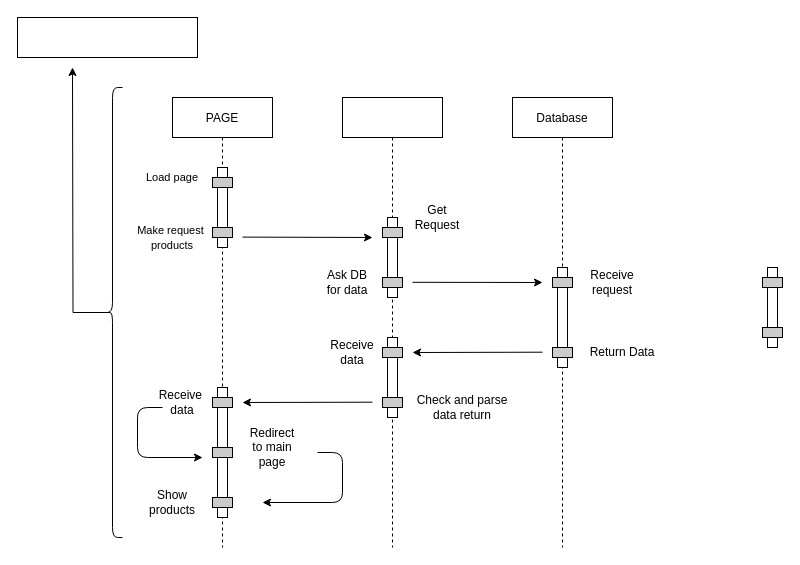
Some shapes in this 800 by 565 pixel diagram are drawn without their labels. The shapes that lost their labels are listed below. From the top down, each one's box as (x1, y1, x2, y2) in pixels, then its label:
(16, 16, 198, 58): Filter Products
(342, 96, 442, 548): Controller
